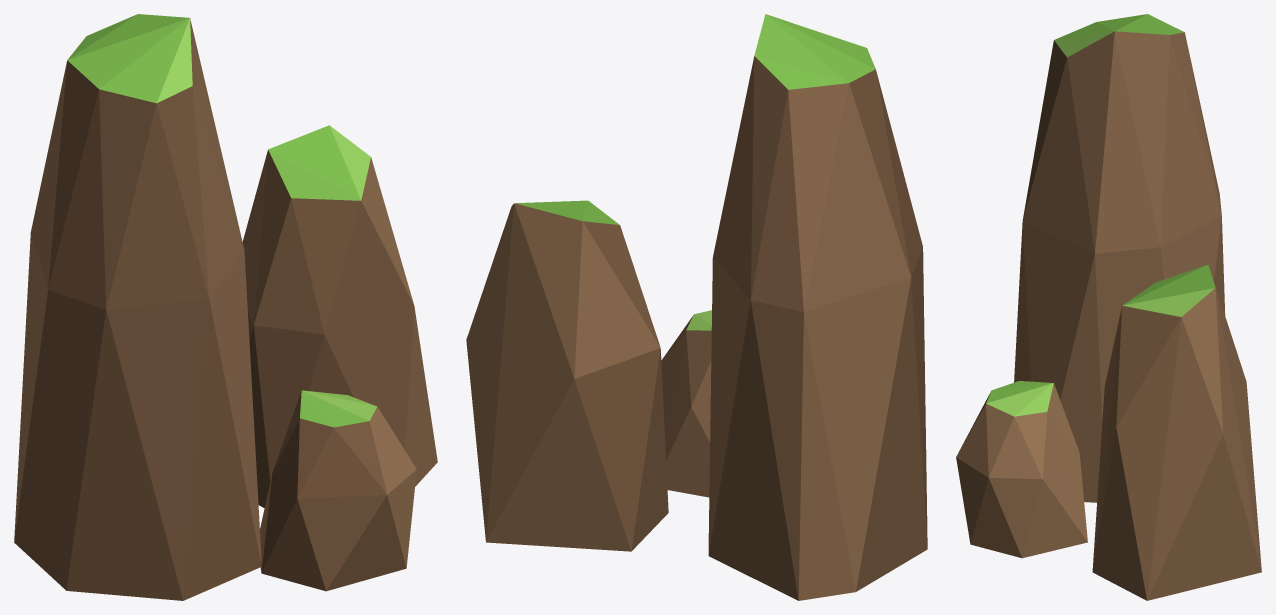
Rendered from rock_tallA.glb.
The picture shows the model from 3 angles, left to right: view 1: azimuth 30°, elevation 25°; view 2: azimuth 150°, elevation 25°; view 3: azimuth 270°, elevation 25°; orthographic projection. The views are drawn at different scales.
Visible parts, largest first — view 1: rock_tallA; view 2: rock_tallA; view 3: rock_tallA.
Part boxes in pixels (box(x1,y1,x2,y2)): rock_tallA: box(14, 14, 437, 600); rock_tallA: box(466, 14, 927, 600); rock_tallA: box(956, 14, 1261, 600).
Bounding box in the file's own units: 0.8199 × 0.9962 × 0.6052.
Materials: 1 (1 with a texture image).
